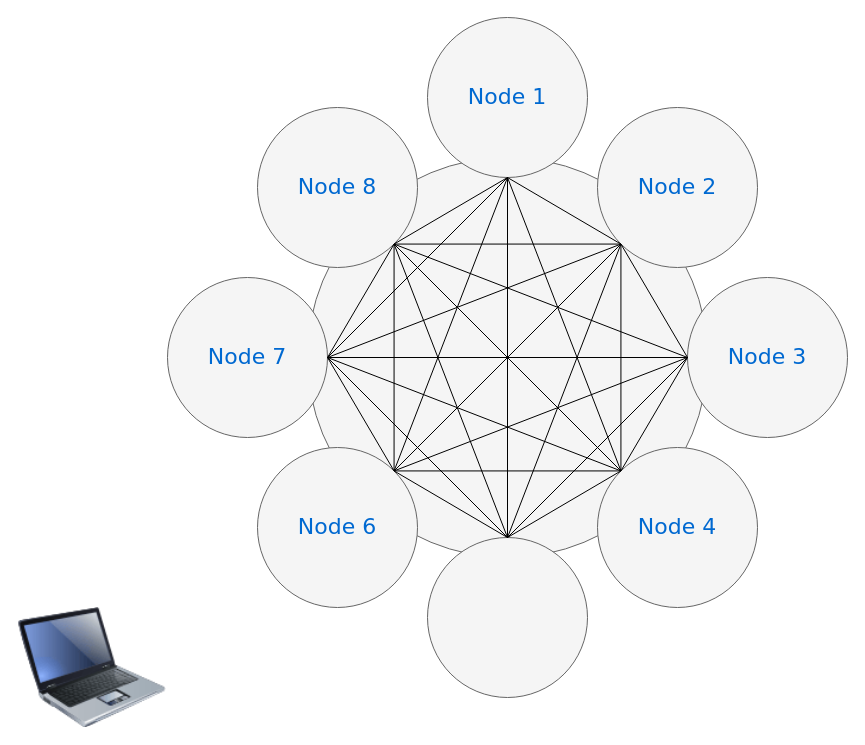
This 865x745 diagram has some shape labels left out. Here are the shapes that lost their labels. From the top down, the box of each, then its label:
(306, 156, 708, 558): Zero Trust Networking 10.0.0.1
(426, 536, 588, 698): Node 5
